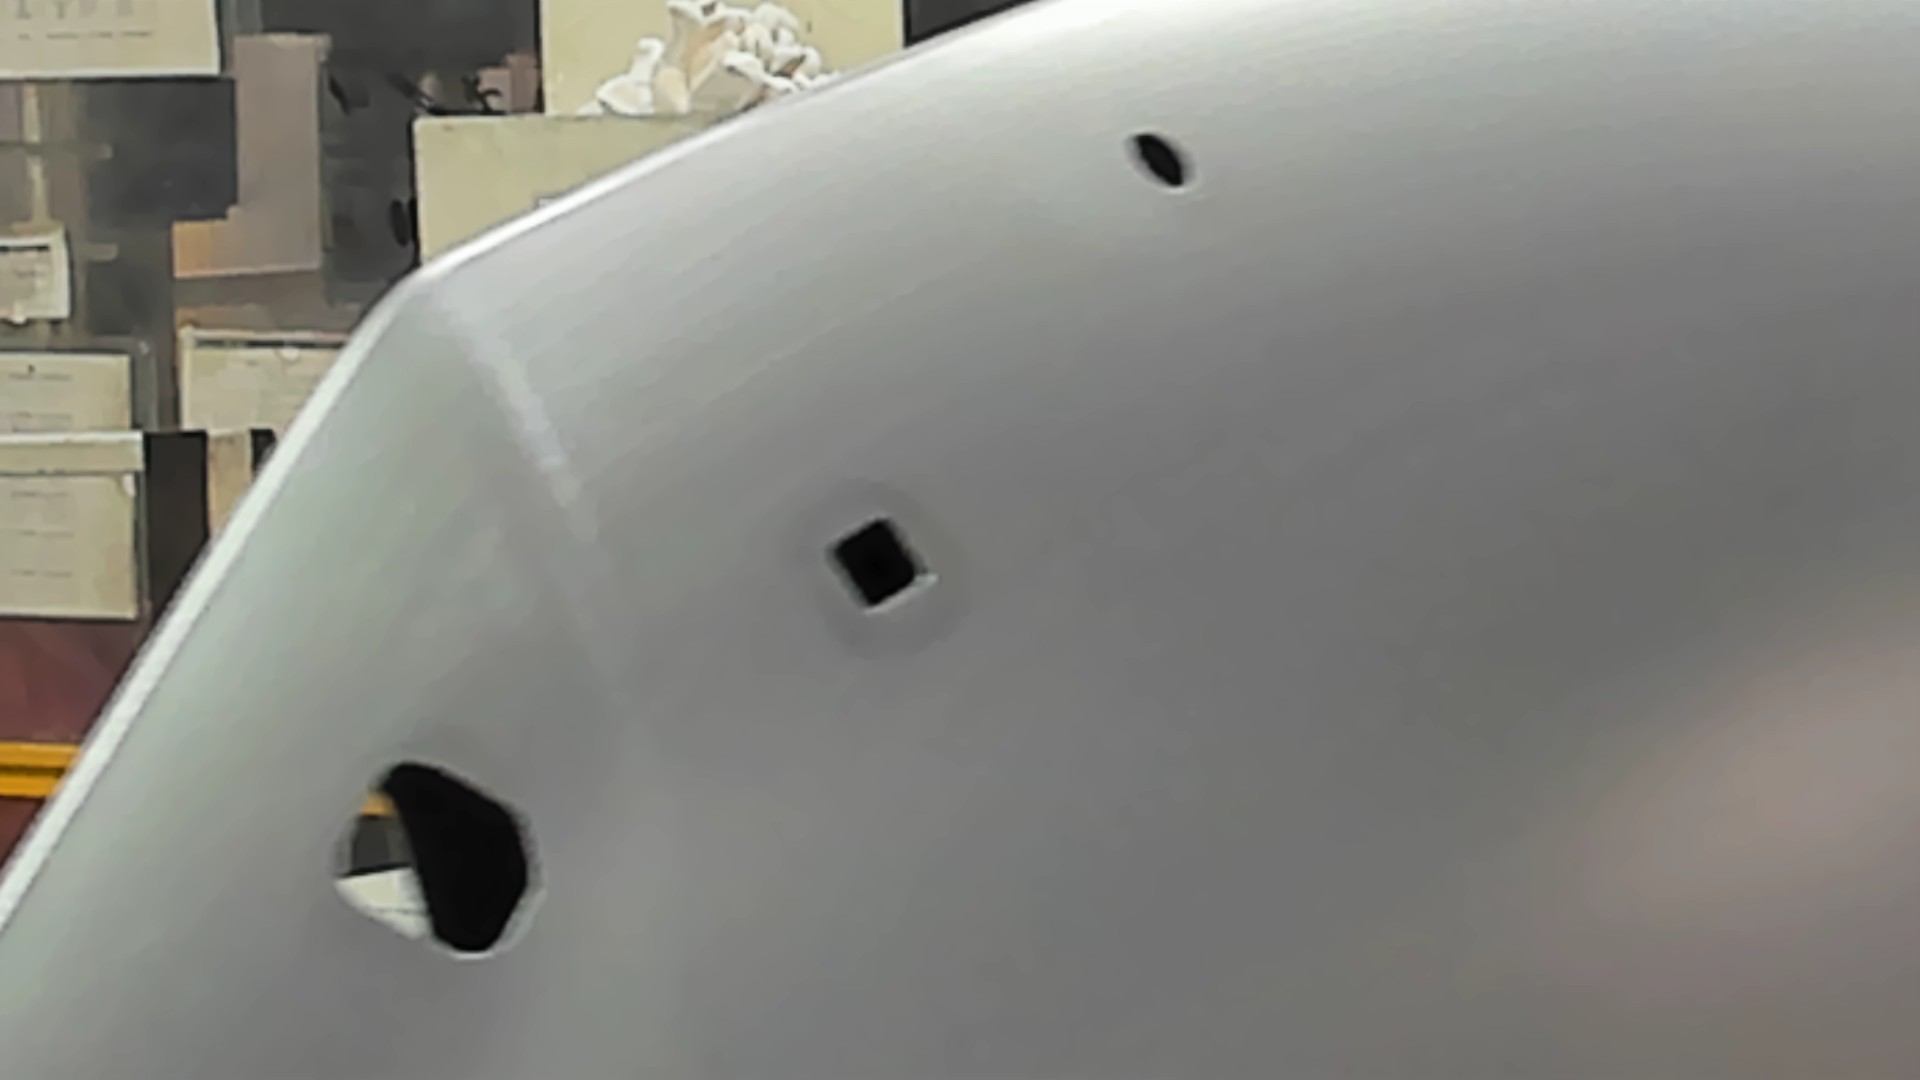chico: (1124, 120, 1204, 200)
grande: (320, 752, 545, 968)
mediano: (819, 501, 942, 620)
